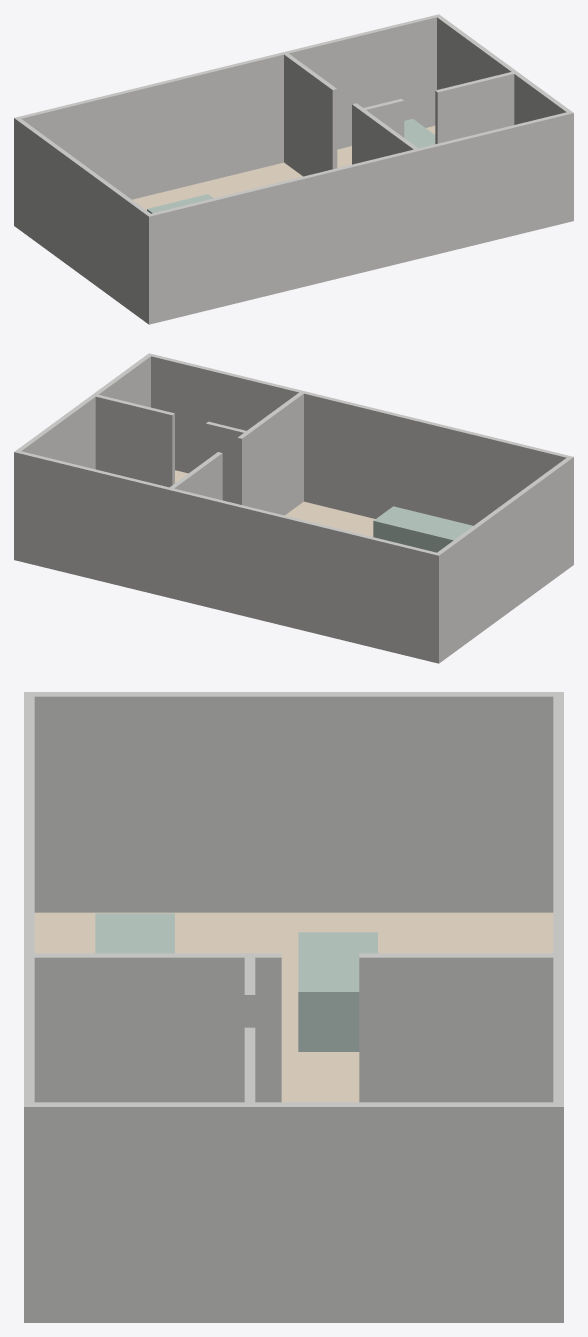
Rendered from sample.glb.
The picture shows the model from 3 angles, top to bottom: view 1: azimuth 30°, elevation 25°; view 2: azimuth 150°, elevation 25°; view 3: azimuth 270°, elevation 25°; orthographic projection. The views are drawn at different scales.
Parts seen in each view (by area): view 1: Wall2, Wall0, Wall3, Wall4, Wall1, Wall7, Floor0, Wall5, Wall6, Bed0, Table0; view 2: Wall0, Wall2, Wall3, Wall5, Wall7, Wall1, Sofa0, Wall6, Wall4, Floor0; view 3: Wall1, Wall3, Wall5, Wall4, Floor0, Table0, Wall0, Wall2, Sofa0, Wall7, Wall6.
Boxes of the visible parts, x1=… form: Wall2: x1=146, y1=112, x2=573, y2=324; Wall0: x1=14, y1=14, x2=441, y2=199; Wall3: x1=14, y1=117, x2=153, y2=323; Wall4: x1=282, y1=52, x2=337, y2=176; Wall1: x1=436, y1=15, x2=572, y2=124; Wall7: x1=435, y1=71, x2=518, y2=144; Floor0: x1=132, y1=162, x2=302, y2=210; Wall5: x1=352, y1=103, x2=420, y2=258; Wall6: x1=358, y1=99, x2=404, y2=162; Bed0: x1=404, y1=119, x2=435, y2=148; Table0: x1=147, y1=194, x2=213, y2=213; Wall0: x1=14, y1=451, x2=441, y2=663; Wall2: x1=147, y1=353, x2=573, y2=566; Wall3: x1=434, y1=456, x2=573, y2=663; Wall5: x1=237, y1=390, x2=305, y2=515; Wall7: x1=91, y1=394, x2=174, y2=487; Wall1: x1=14, y1=353, x2=152, y2=556; Sofa0: x1=373, y1=506, x2=472, y2=552; Wall6: x1=206, y1=421, x2=250, y2=503; Wall4: x1=167, y1=452, x2=222, y2=598; Floor0: x1=285, y1=501, x2=375, y2=536; Wall1: x1=24, y1=1102, x2=563, y2=1322; Wall3: x1=24, y1=692, x2=563, y2=912; Wall5: x1=28, y1=953, x2=281, y2=1102; Wall4: x1=359, y1=953, x2=553, y2=1102; Floor0: x1=34, y1=912, x2=553, y2=1102; Table0: x1=298, y1=932, x2=377, y2=1051; Wall0: x1=553, y1=692, x2=563, y2=1322; Wall2: x1=24, y1=692, x2=34, y2=1322; Sofa0: x1=95, y1=913, x2=174, y2=953; Wall7: x1=244, y1=1027, x2=255, y2=1322; Wall6: x1=244, y1=953, x2=255, y2=1027.
Bounding box in the file's own units: 11.12 × 2.7 × 6.12.
